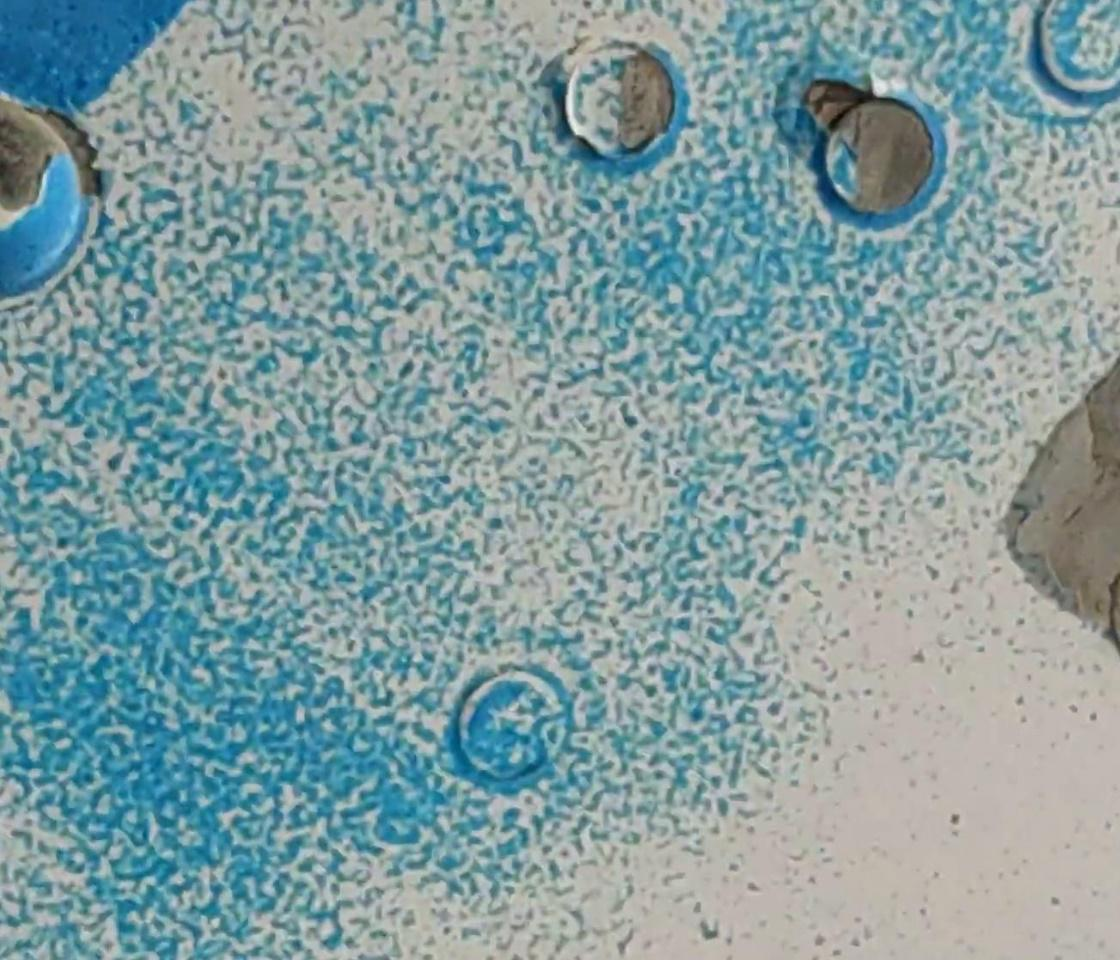paint_peel: (784, 57, 934, 212), (607, 36, 683, 168)
